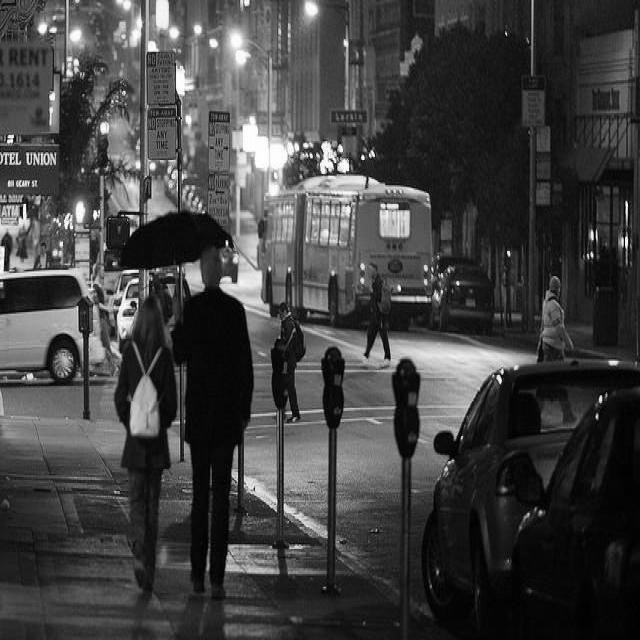vehicle: (421, 359, 640, 640), (511, 386, 640, 640), (257, 176, 432, 332), (0, 262, 104, 384), (430, 265, 494, 331), (108, 269, 139, 337), (116, 278, 139, 350), (220, 247, 240, 283), (182, 187, 200, 209)
